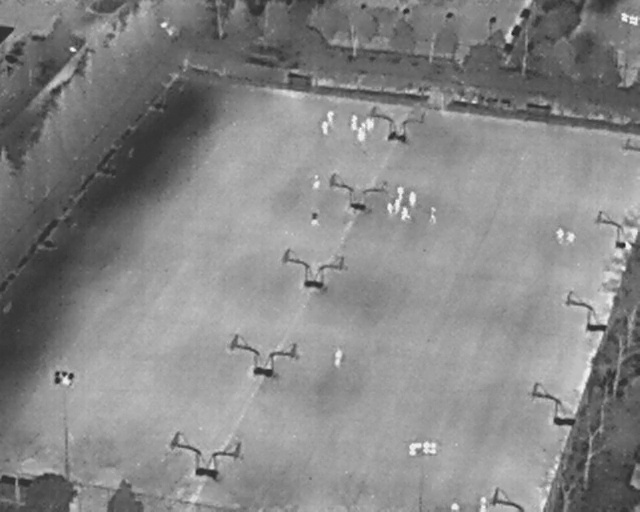Person: (309, 210, 321, 226), (555, 226, 564, 245), (429, 206, 438, 224), (334, 349, 343, 367), (366, 115, 375, 132), (349, 113, 357, 132), (566, 229, 576, 244), (401, 208, 411, 222), (357, 126, 365, 143), (326, 111, 335, 126), (397, 185, 405, 201), (409, 191, 417, 207), (320, 121, 328, 136), (392, 200, 401, 213), (312, 175, 320, 188), (385, 202, 393, 215), (479, 495, 485, 511)
